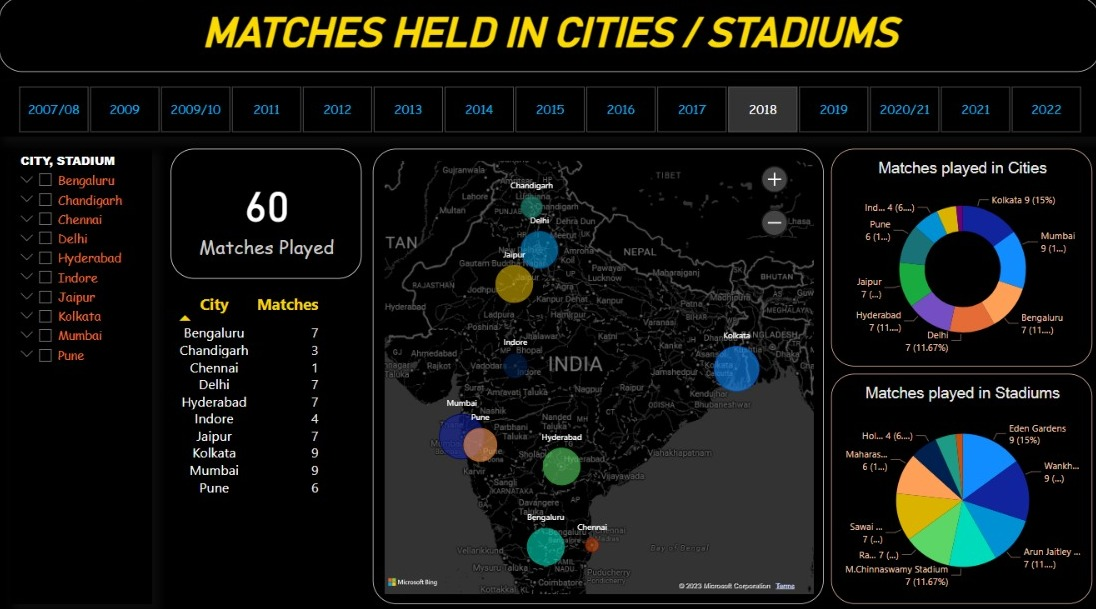

The dashboard page shown, as its layout file describes it:
{"tool":"powerbi","page":{"name":"Cities & Stadiums","canvas":[1420,800],"ordinal":1},"visuals":[{"type":"slicer","fields":{"Values":["VENUE SEASONAL.City","VENUE SEASONAL.Venue"]},"box":[14.7,195.6,182.2,585.6],"z":0},{"type":"textbox","box":[0,0,1416.4,96.5],"z":1000},{"type":"slicer","fields":{"Values":["VENUE SEASONAL.Season"]},"box":[0,108.5,1416.4,72.4],"z":2000},{"type":"card","fields":{"Values":["Sum(VENUE SEASONAL.Matches Played)"]},"box":[221.1,195.6,245.2,167.5],"z":3000},{"type":"pivotTable","fields":{"Rows":["VENUE SEASONAL.City"],"Values":["Sum(VENUE SEASONAL.Matches Played)"]},"box":[222.4,376.5,243.9,404.7],"z":4000},{"type":"pieChart","title":"Matches played in Stadiums","fields":{"Category":["VENUE SEASONAL.Venue"],"Y":["Sum(VENUE SEASONAL.Matches Played)"]},"box":[1070.7,485.1,336.3,296.1],"z":5000},{"type":"donutChart","title":"Matches played in Cities","fields":{"Category":["VENUE SEASONAL.City"],"Y":["VENUE SEASONAL.Matches Played running total in Matches Played"]},"box":[1070.7,195.6,336.3,280.1],"z":6000},{"type":"map","fields":{"Category":["VENUE SEASONAL.City","VENUE SEASONAL.Venue"],"Series":["VENUE SEASONAL.Venue"],"Size":["Sum(VENUE SEASONAL.Matches Played)"]},"box":[481.1,195.6,580.2,585.6],"z":7000}]}

Visuals, with their boxes in screenshot pixels (x1, y1, x2, y2), scaled from the page's 1420x800 canvas onto the 1096x609 screenshot:
slicer - VENUE SEASONAL.City x VENUE SEASONAL.Venue: Rect(11, 149, 152, 595)
textbox: Rect(0, 0, 1093, 73)
slicer - VENUE SEASONAL.Season: Rect(0, 83, 1093, 138)
card - Sum(VENUE SEASONAL.Matches Played): Rect(171, 149, 360, 276)
pivotTable - VENUE SEASONAL.City x Sum(VENUE SEASONAL.Matches Played): Rect(172, 287, 360, 595)
"Matches played in Stadiums" pieChart: Rect(826, 369, 1086, 595)
"Matches played in Cities" donutChart: Rect(826, 149, 1086, 362)
map - VENUE SEASONAL.City x VENUE SEASONAL.Venue: Rect(371, 149, 819, 595)
